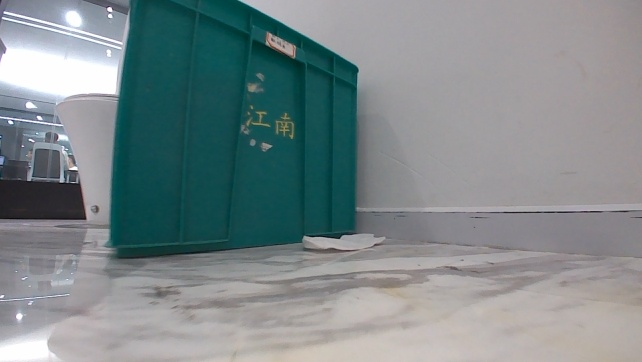socks: (297, 228, 387, 254)
toilet: (48, 85, 117, 226)
